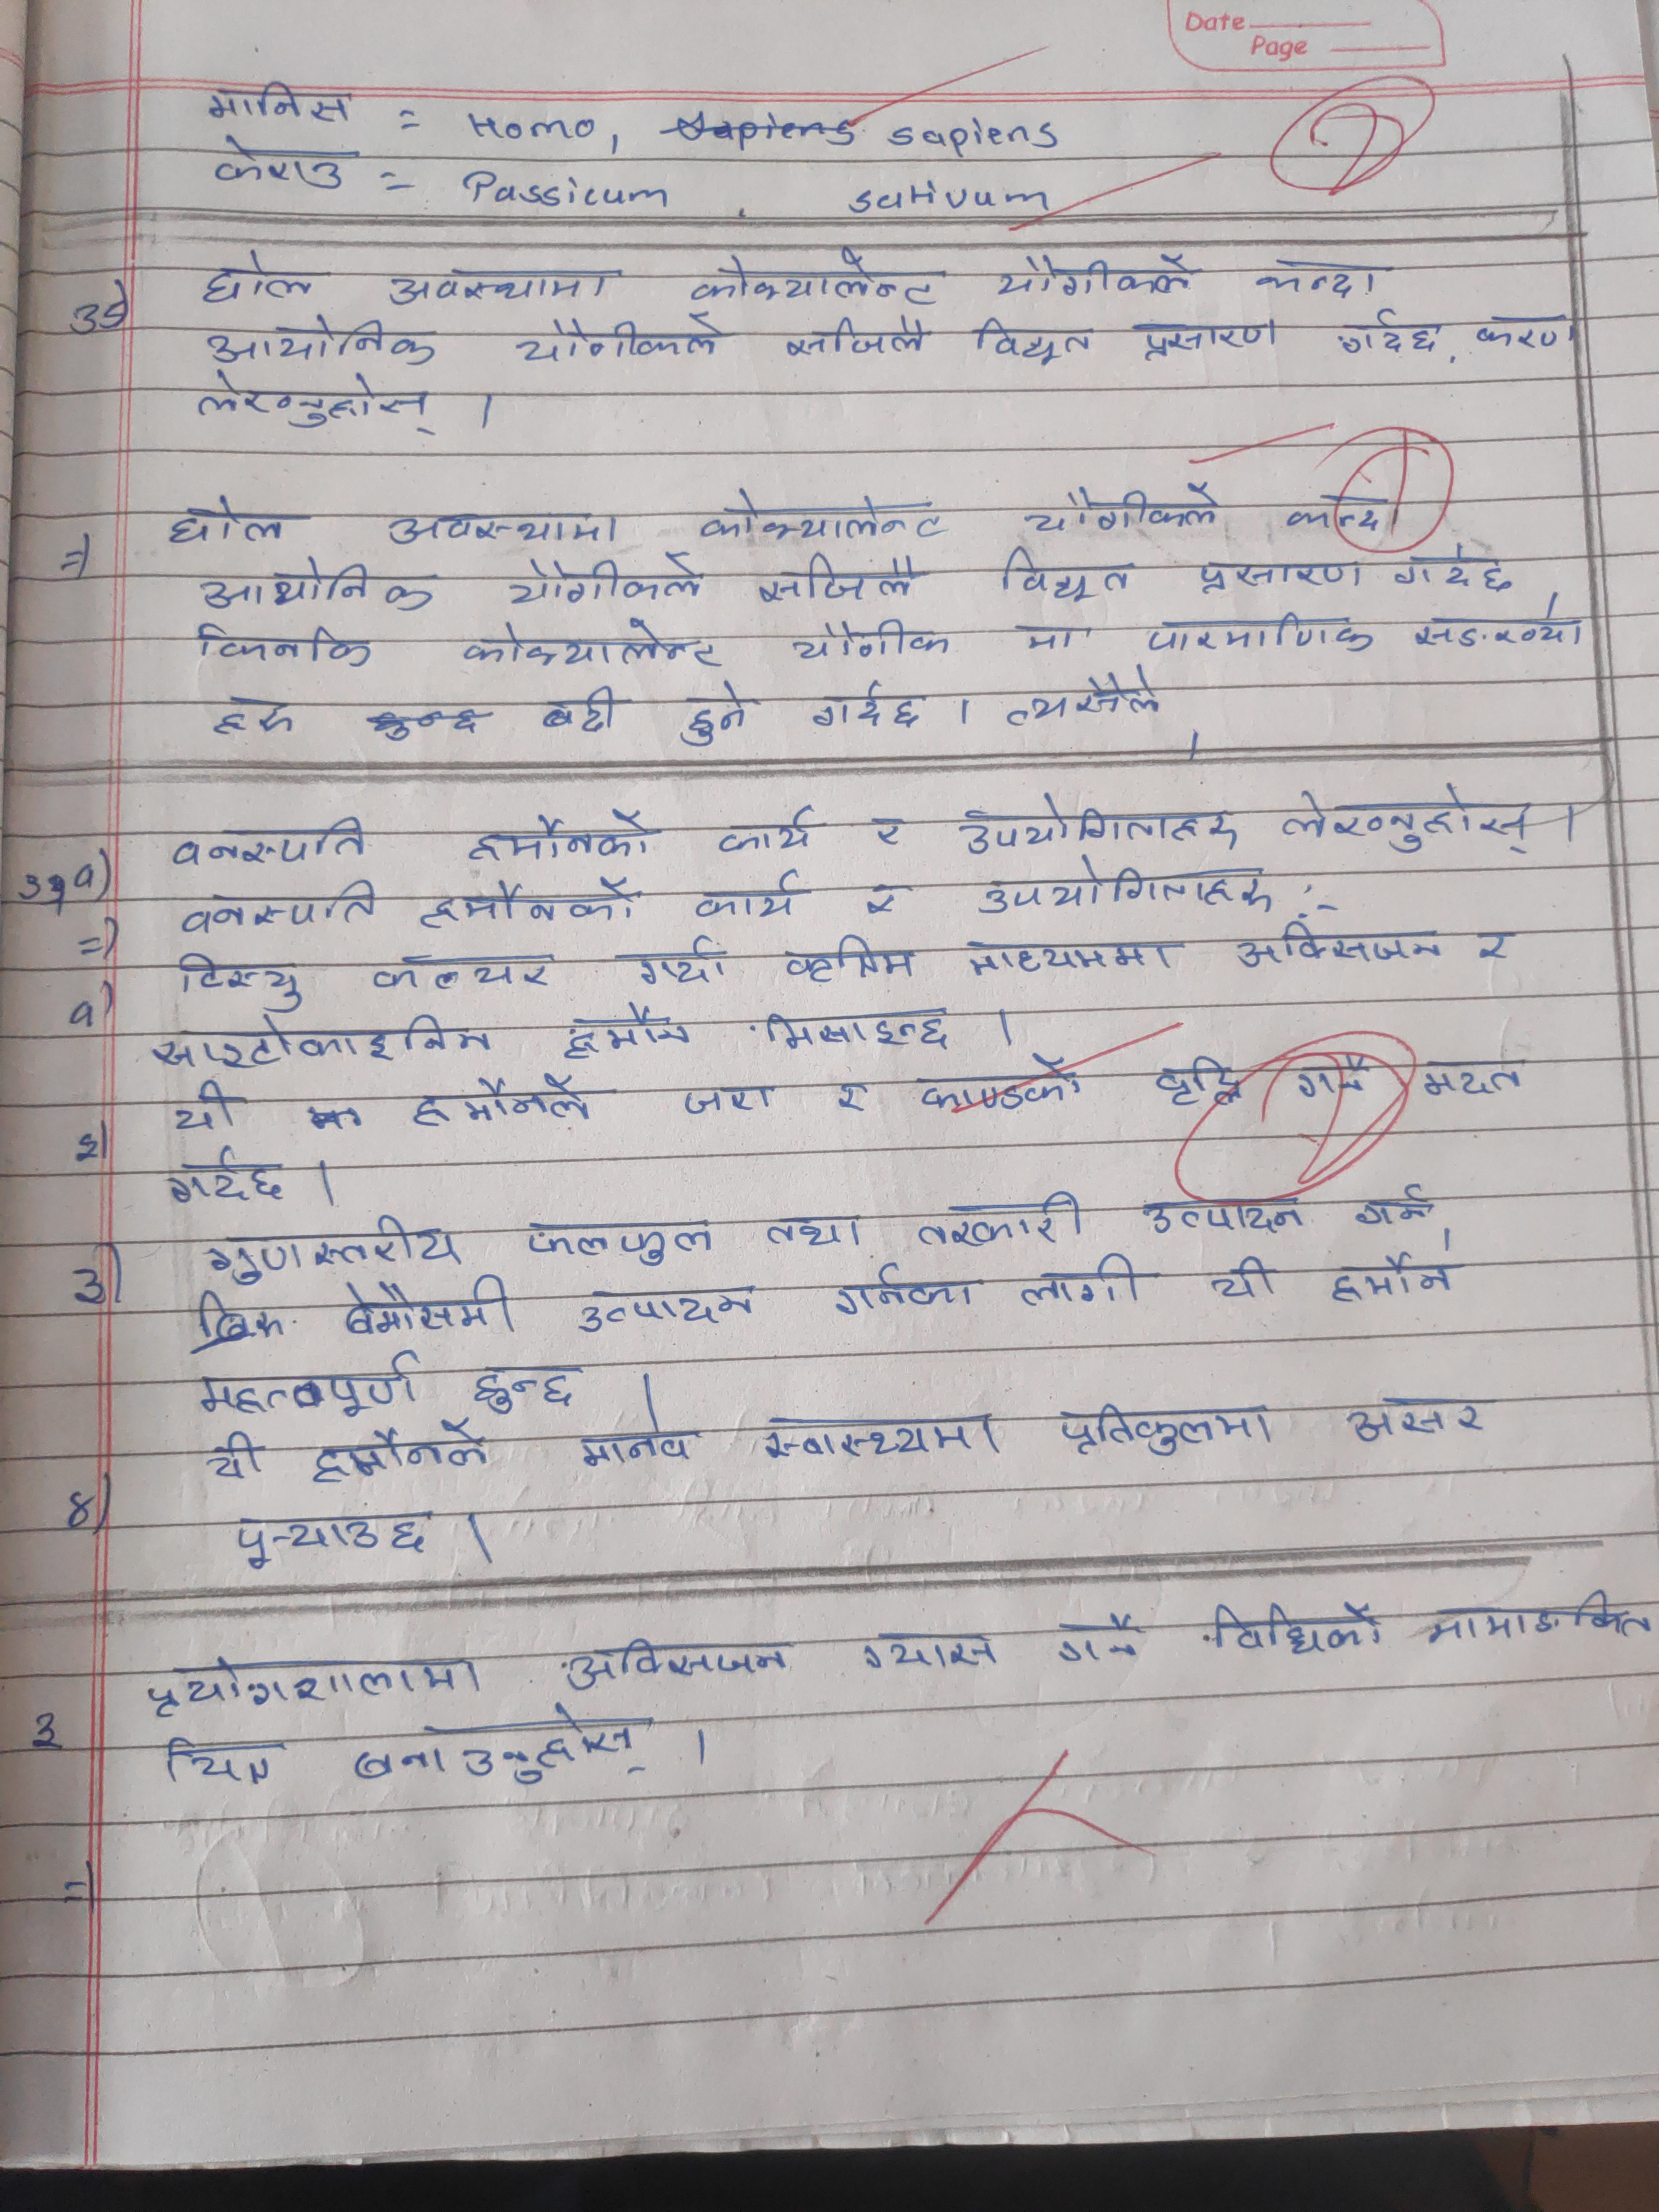text: (347, 1709, 657, 1794), (138, 1658, 493, 1717), (1274, 782, 1544, 857), (953, 792, 1253, 859), (197, 1211, 464, 1284), (148, 1014, 502, 1068), (979, 855, 1279, 918), (188, 366, 441, 439), (1046, 1392, 1279, 1465), (193, 1346, 418, 1421), (460, 613, 732, 674), (199, 549, 437, 617), (697, 484, 951, 545), (561, 1630, 795, 1695), (742, 1411, 1011, 1467), (685, 251, 945, 307), (199, 314, 443, 371), (408, 874, 641, 934), (1422, 1588, 1659, 1646), (382, 496, 626, 552), (223, 1507, 437, 1569), (167, 808, 378, 871), (518, 312, 734, 371), (748, 998, 969, 1055), (457, 808, 664, 869), (338, 1273, 519, 1343), (406, 1073, 606, 1136), (505, 552, 711, 613), (568, 1275, 760, 1339), (913, 1184, 1094, 1252), (917, 1049, 1087, 1120), (173, 881, 382, 939), (992, 246, 1199, 303), (1230, 916, 1443, 970), (1018, 481, 1223, 536), (1202, 1597, 1389, 1658), (193, 615, 382, 674), (749, 550, 924, 613), (964, 934, 1185, 982), (1004, 669, 1166, 735), (514, 1217, 716, 1270), (1140, 611, 1380, 653), (383, 261, 613, 305), (305, 1428, 497, 1480), (162, 944, 307, 1012), (830, 1259, 988, 1318), (1000, 538, 1138, 606), (1412, 601, 1586, 653), (1014, 1252, 1161, 1313), (561, 1003, 699, 1066), (1197, 550, 1366, 601), (774, 312, 941, 362), (1323, 1251, 1464, 1310), (162, 1731, 298, 1792), (1340, 1395, 1493, 1449), (368, 953, 565, 995), (209, 132, 352, 190), (164, 491, 295, 554), (1140, 1188, 1302, 1238), (162, 1146, 289, 1209), (852, 1623, 1004, 1674), (788, 615, 955, 660), (202, 78, 352, 129), (1131, 317, 1286, 366), (1389, 543, 1520, 601), (784, 928, 927, 981), (193, 251, 322, 308), (1246, 254, 1392, 305), (805, 672, 927, 732), (685, 866, 810, 923), (467, 1360, 586, 1420), (636, 928, 739, 995), (575, 1421, 694, 1477), (706, 803, 821, 859), (1152, 1050, 1248, 1116), (965, 317, 1100, 364), (1053, 1604, 1150, 1669), (1331, 308, 1443, 364), (671, 683, 760, 751), (1417, 1049, 1532, 1101), (1283, 489, 1398, 540), (538, 683, 634, 742), (1466, 305, 1579, 354), (678, 1073, 782, 1125), (211, 688, 296, 749), (765, 1211, 871, 1258), (167, 1076, 247, 1137), (1211, 1245, 1283, 1308), (1351, 1186, 1441, 1231), (1293, 1054, 1377, 1103), (58, 1258, 120, 1317), (206, 1428, 263, 1489), (1006, 615, 1094, 651), (1467, 916, 1527, 967), (831, 1068, 882, 1123), (59, 1122, 106, 1174), (58, 1487, 105, 1538), (26, 1707, 73, 1757), (866, 812, 913, 859), (857, 880, 906, 923), (58, 995, 99, 1029)
